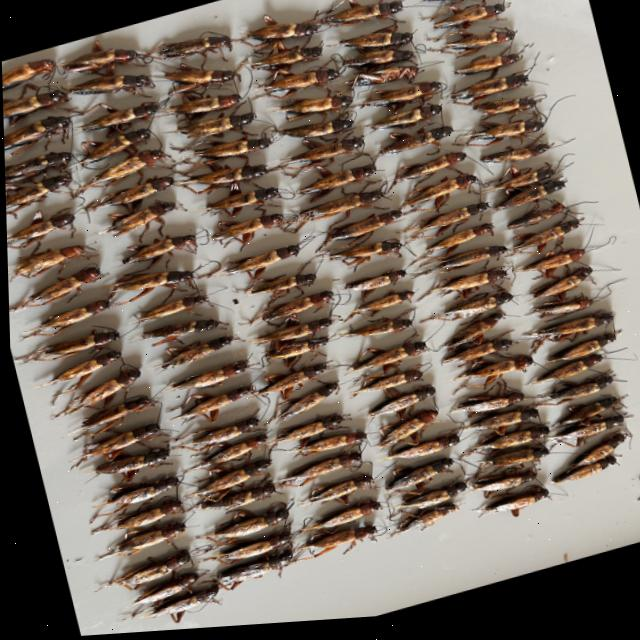no egg: (49, 368, 138, 418), (7, 267, 99, 311), (76, 152, 162, 193), (93, 524, 182, 562), (87, 499, 178, 536), (12, 331, 116, 362), (20, 301, 107, 338), (182, 462, 266, 500), (67, 397, 152, 434), (104, 551, 186, 589), (180, 437, 263, 474), (92, 479, 175, 515), (165, 389, 250, 424), (410, 252, 505, 283), (204, 248, 299, 279), (35, 351, 118, 386), (75, 425, 155, 461), (84, 179, 171, 212), (272, 457, 356, 490), (159, 363, 246, 394), (402, 209, 488, 240), (343, 347, 426, 379), (96, 203, 174, 237), (3, 117, 69, 156), (104, 273, 189, 303), (173, 168, 264, 196), (196, 536, 287, 564), (254, 366, 324, 402), (6, 212, 73, 249), (5, 175, 70, 213), (398, 180, 475, 212), (77, 130, 149, 164), (245, 18, 319, 51), (9, 246, 83, 279), (258, 72, 338, 102), (158, 339, 231, 371), (157, 97, 240, 125), (428, 298, 510, 326), (325, 215, 399, 246), (214, 554, 287, 585), (373, 415, 434, 452), (209, 510, 284, 540), (249, 296, 329, 324), (300, 505, 377, 534), (294, 170, 373, 198), (526, 362, 599, 392), (207, 217, 280, 247), (141, 589, 214, 619), (246, 322, 330, 348), (492, 187, 564, 217), (136, 322, 218, 348), (276, 386, 335, 422), (537, 384, 610, 413), (439, 35, 514, 63), (265, 418, 340, 446), (144, 38, 231, 62), (376, 439, 456, 465), (449, 81, 526, 108), (4, 153, 71, 184), (119, 237, 193, 265), (162, 67, 233, 96), (77, 105, 156, 131), (378, 132, 451, 160), (203, 191, 276, 219), (509, 228, 577, 258), (382, 464, 450, 494), (393, 158, 465, 186), (308, 194, 380, 222), (365, 391, 431, 421), (129, 574, 195, 604), (424, 275, 503, 300), (196, 486, 271, 512), (438, 320, 497, 353), (172, 116, 253, 140), (390, 509, 454, 539), (292, 530, 372, 554), (522, 321, 609, 343), (359, 88, 442, 111), (544, 341, 612, 369), (87, 451, 166, 475), (392, 488, 462, 515), (249, 50, 321, 76), (422, 230, 491, 257), (304, 479, 368, 508), (566, 442, 622, 475), (247, 277, 313, 305), (188, 420, 256, 447), (528, 276, 589, 306), (548, 423, 621, 448), (349, 375, 419, 401), (432, 10, 504, 35), (364, 110, 439, 134), (287, 142, 362, 166), (549, 463, 612, 490), (439, 346, 509, 370), (485, 173, 552, 198), (2, 91, 66, 117), (135, 298, 204, 322), (478, 496, 544, 521), (471, 433, 545, 455), (59, 51, 135, 72), (556, 405, 615, 432), (297, 436, 363, 460), (326, 6, 401, 27), (63, 77, 150, 95), (2, 60, 54, 90), (511, 257, 581, 279), (504, 210, 563, 236), (461, 414, 534, 435), (460, 128, 540, 147), (446, 399, 520, 419), (187, 142, 269, 160), (334, 33, 410, 52), (527, 303, 590, 325), (463, 362, 529, 383), (275, 123, 352, 141), (348, 296, 411, 318), (328, 244, 400, 263), (262, 341, 326, 362), (272, 100, 351, 117), (478, 453, 545, 473), (340, 275, 403, 296), (468, 477, 532, 497), (453, 61, 520, 80), (480, 151, 549, 169), (336, 324, 409, 341), (471, 104, 539, 121), (343, 55, 411, 71), (361, 71, 417, 89), (123, 187, 152, 207), (422, 0, 479, 6), (115, 77, 121, 85), (191, 52, 201, 56), (285, 313, 294, 317), (30, 64, 37, 69), (320, 154, 328, 157), (417, 489, 423, 493), (276, 33, 279, 37)
